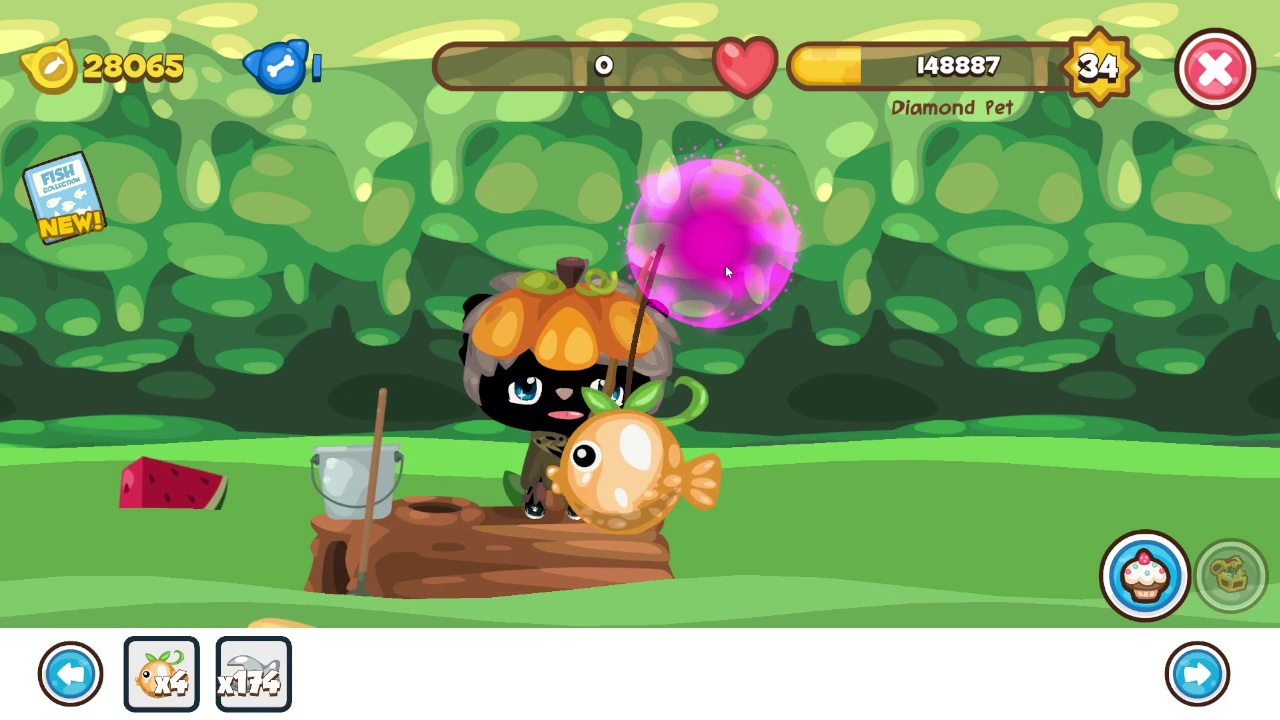point: (628, 157, 799, 328)
